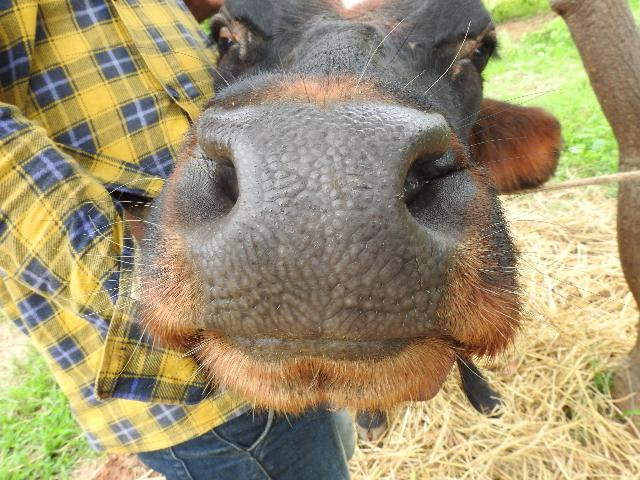Muzzle: (221, 115, 424, 333)
